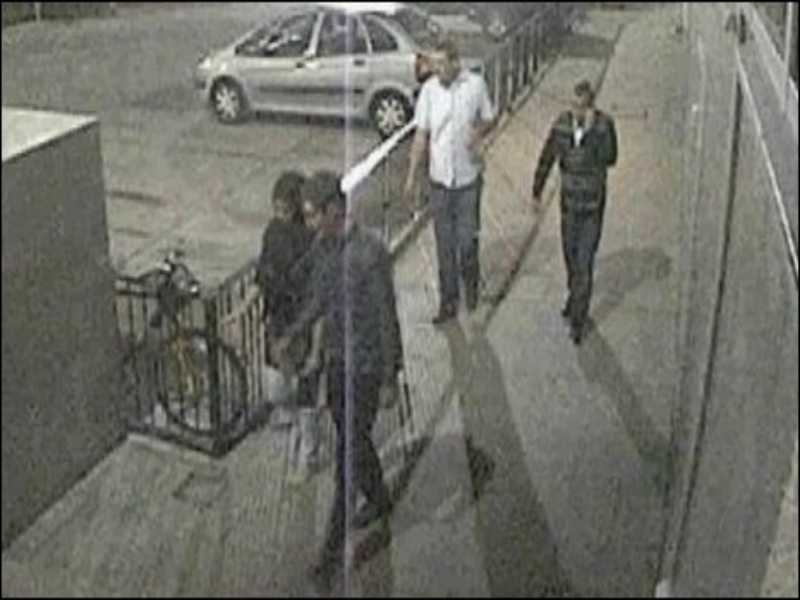person: (296, 165, 407, 599), (405, 35, 503, 327), (251, 168, 338, 486), (524, 76, 623, 350)
